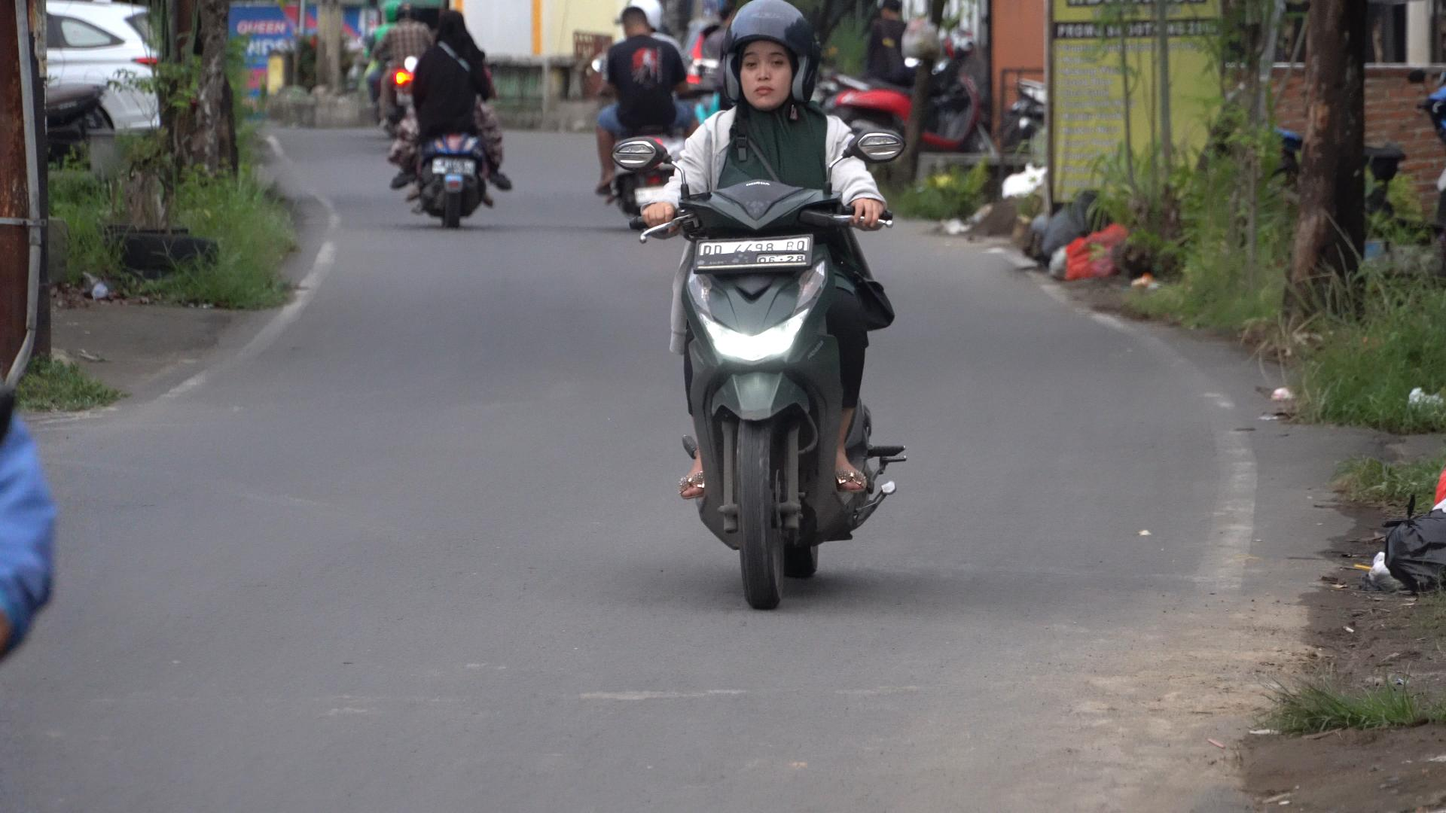number-plate: (700, 229, 813, 275)
